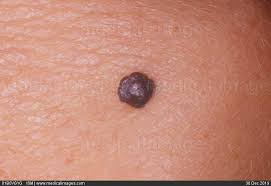melanoma: (89, 61, 170, 119)
